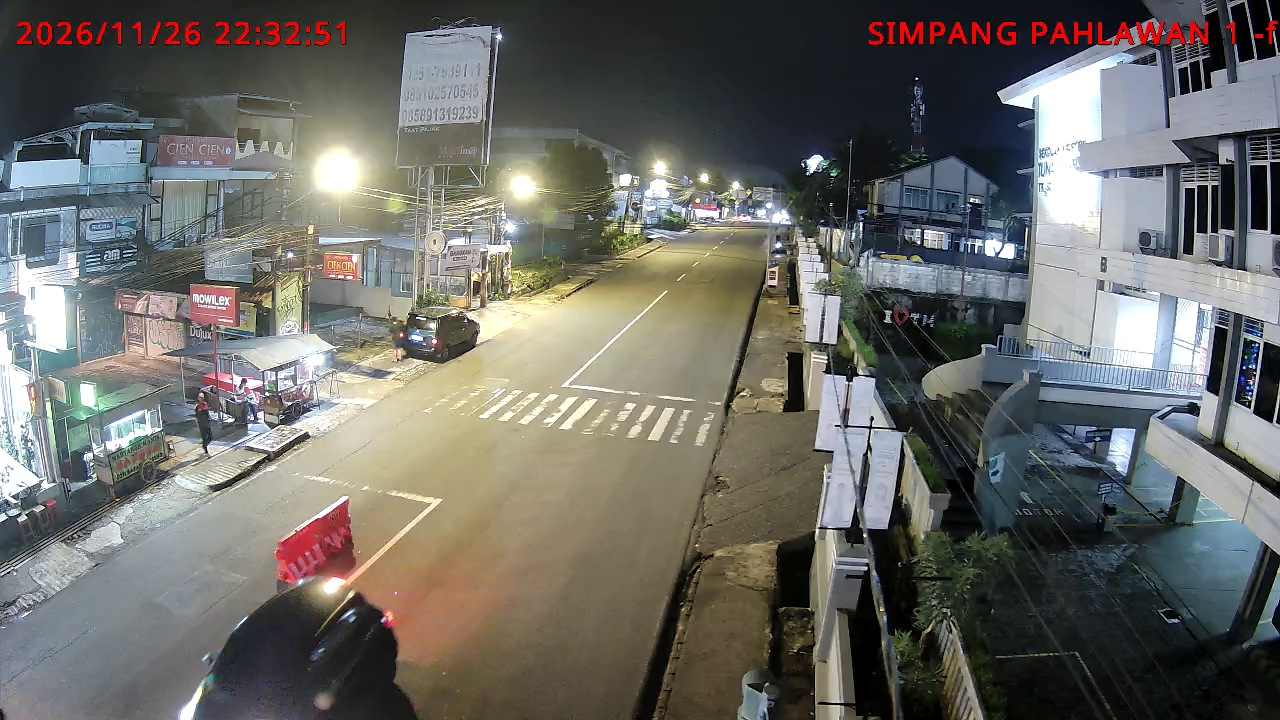Gerobak: (253, 333, 342, 428)
